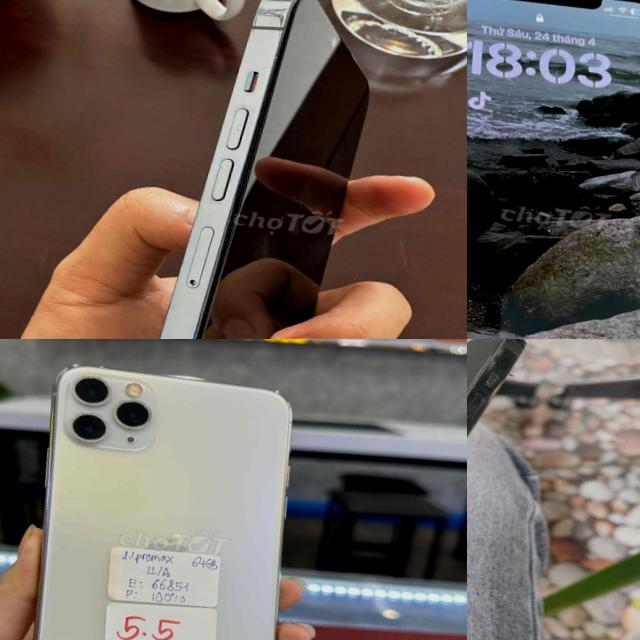scratch: (64, 369, 156, 449)
